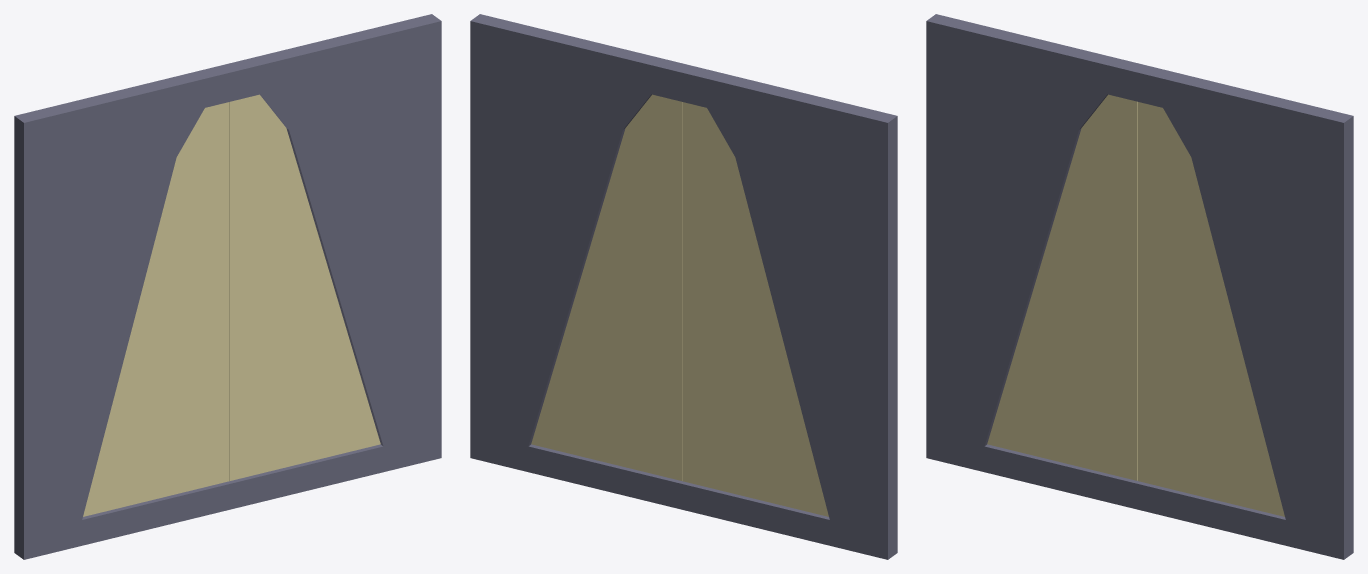
The model's file is door.fbx.
3 renders of one model, left to right at view 1: azimuth 30°, elevation 25°; view 2: azimuth 150°, elevation 25°; view 3: azimuth 330°, elevation 25°, orthographic.
Parts seen in each view (by area): view 1: DoorFrame, Door.Left, Door.Right; view 2: DoorFrame, Door.Left, Door.Right; view 3: DoorFrame, Door.Right, Door.Left.
Boxes of the visible parts, x1,y1,x2,y2 form: DoorFrame: [14, 14, 441, 559]; Door.Left: [229, 94, 380, 480]; Door.Right: [83, 102, 229, 516]; DoorFrame: [470, 14, 897, 559]; Door.Left: [531, 94, 682, 480]; Door.Right: [682, 102, 828, 516]; DoorFrame: [926, 14, 1353, 559]; Door.Right: [987, 94, 1137, 480]; Door.Left: [1138, 102, 1284, 516].
Bounding box in the file's own units: 250 × 250 × 10.
